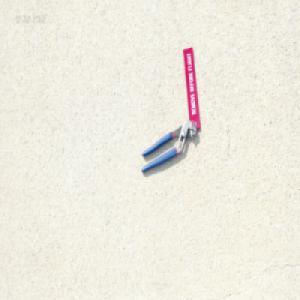Label: (181, 48, 200, 130)
Pliers: (140, 119, 197, 173)
